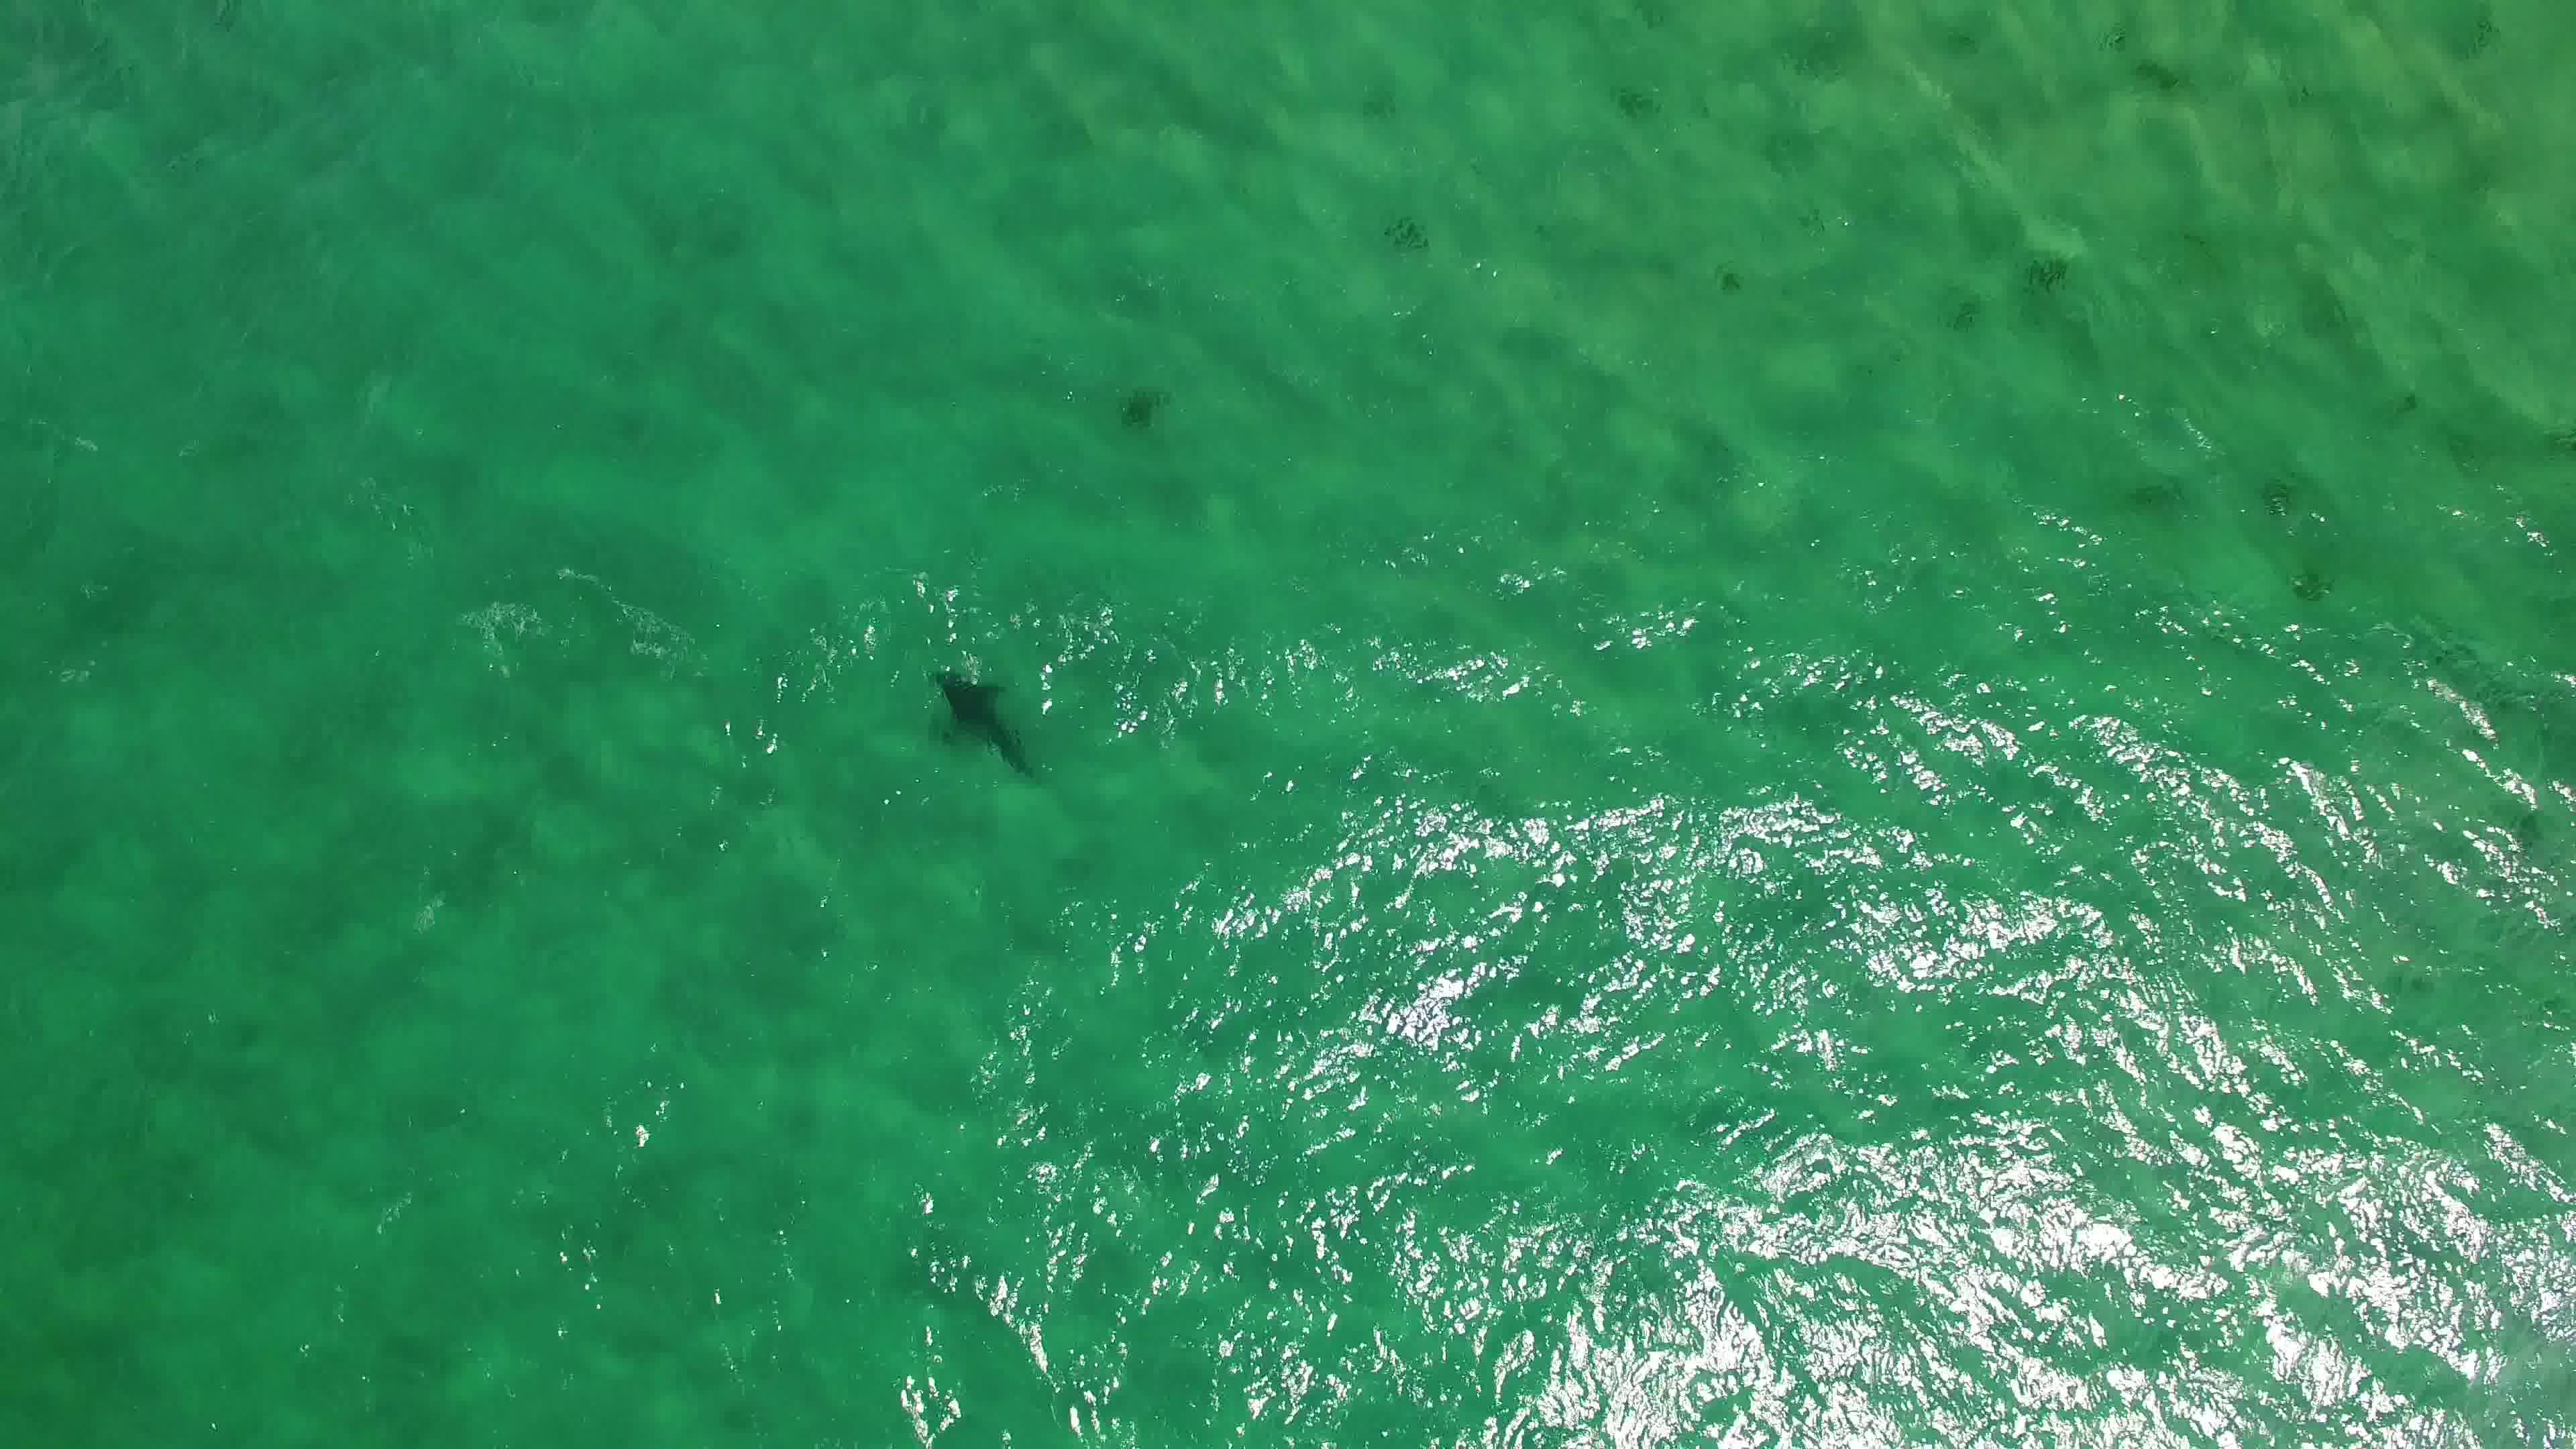shark: (920, 658, 1049, 787)
